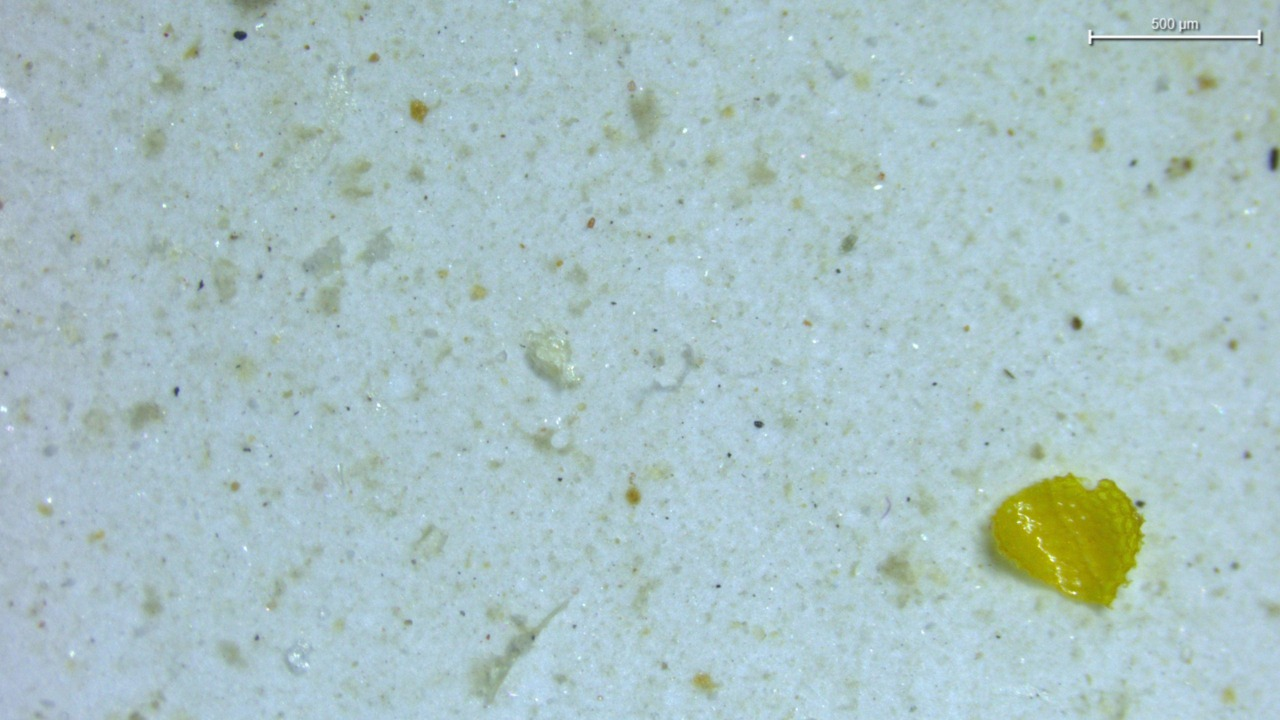microplastic_fragment: (992, 475, 1143, 605), (525, 329, 581, 388), (285, 642, 311, 674)
